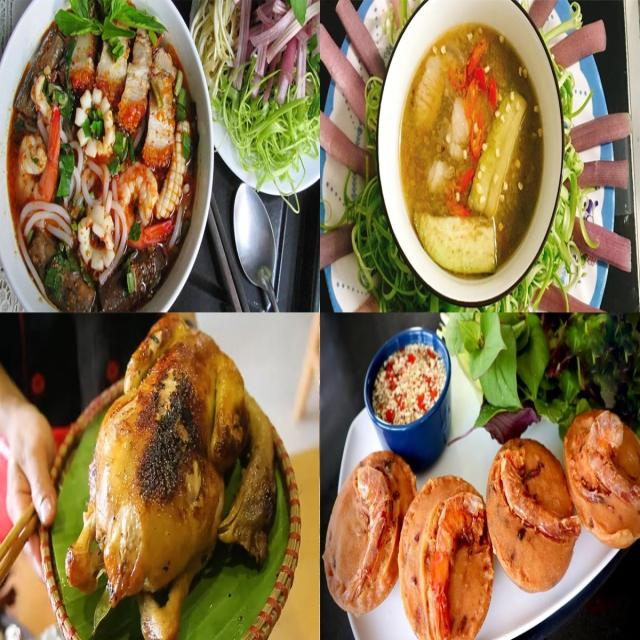canh ca tim: (320, 3, 640, 309)
cha tom: (320, 313, 640, 640)
ga quay: (1, 317, 321, 638)
lau thai: (1, 2, 319, 311)
